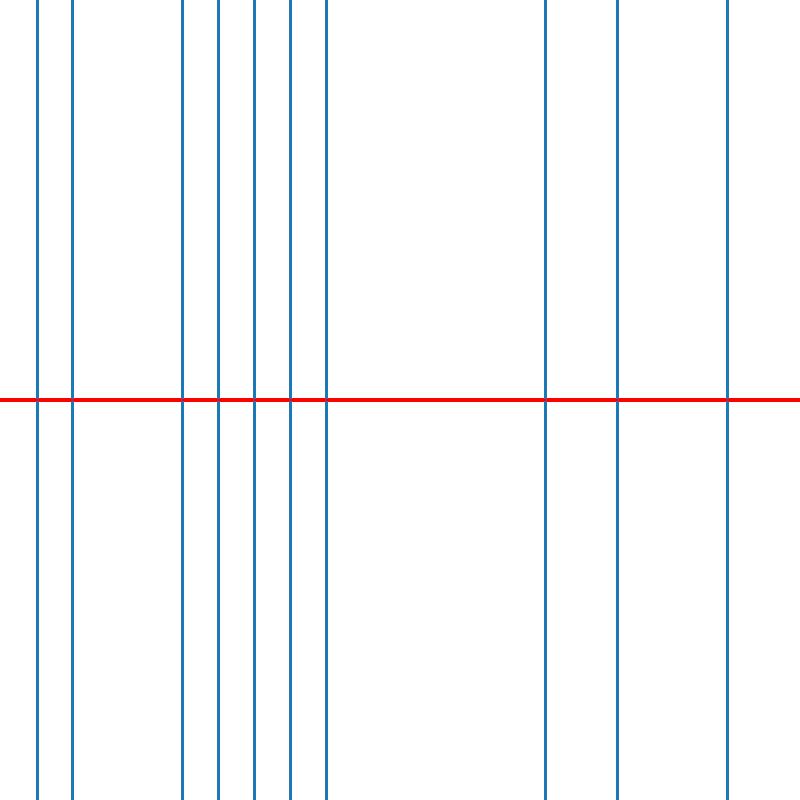root: (541, 396, 549, 404), (32, 396, 40, 404), (250, 396, 258, 404), (178, 396, 185, 404), (614, 396, 621, 404), (323, 396, 330, 404), (287, 396, 294, 404), (69, 396, 76, 404), (214, 396, 221, 404), (723, 396, 730, 404)
